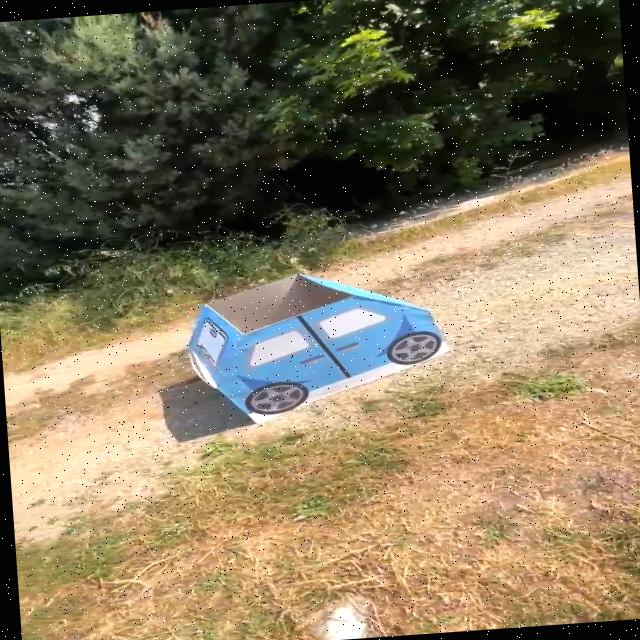blue_car: (165, 250, 467, 438)
